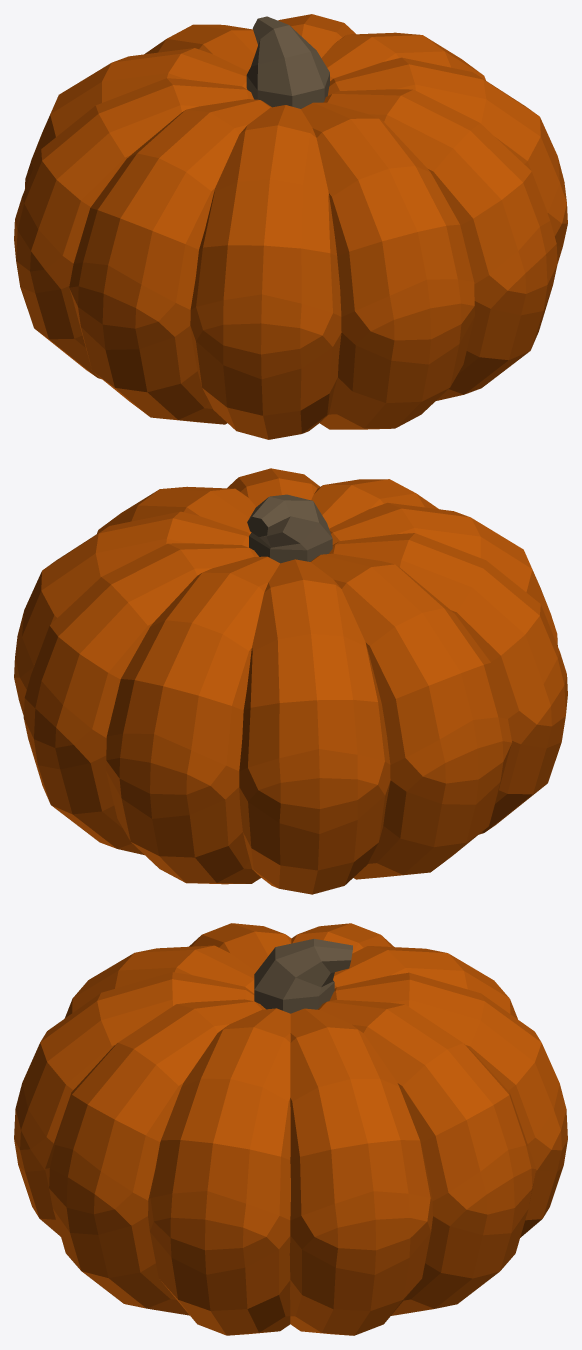
Rendered from [victor]pumkin.fbx.
3 views of the same model, one above another, from view 1: azimuth 30°, elevation 25°; view 2: azimuth 150°, elevation 25°; view 3: azimuth 270°, elevation 25° (orthographic).
Parts seen in each view (by area): view 1: Cube, Cylinder; view 2: Cube, Cylinder; view 3: Cube, Cylinder.
Part boxes in pixels (x1,y1,x2,y2): Cube: (14, 14, 567, 439); Cylinder: (246, 16, 329, 108); Cube: (14, 468, 567, 894); Cylinder: (247, 494, 332, 563); Cube: (14, 923, 567, 1335); Cylinder: (254, 938, 352, 1013).
Bounding box in the file's own units: 182 × 126 × 187.
